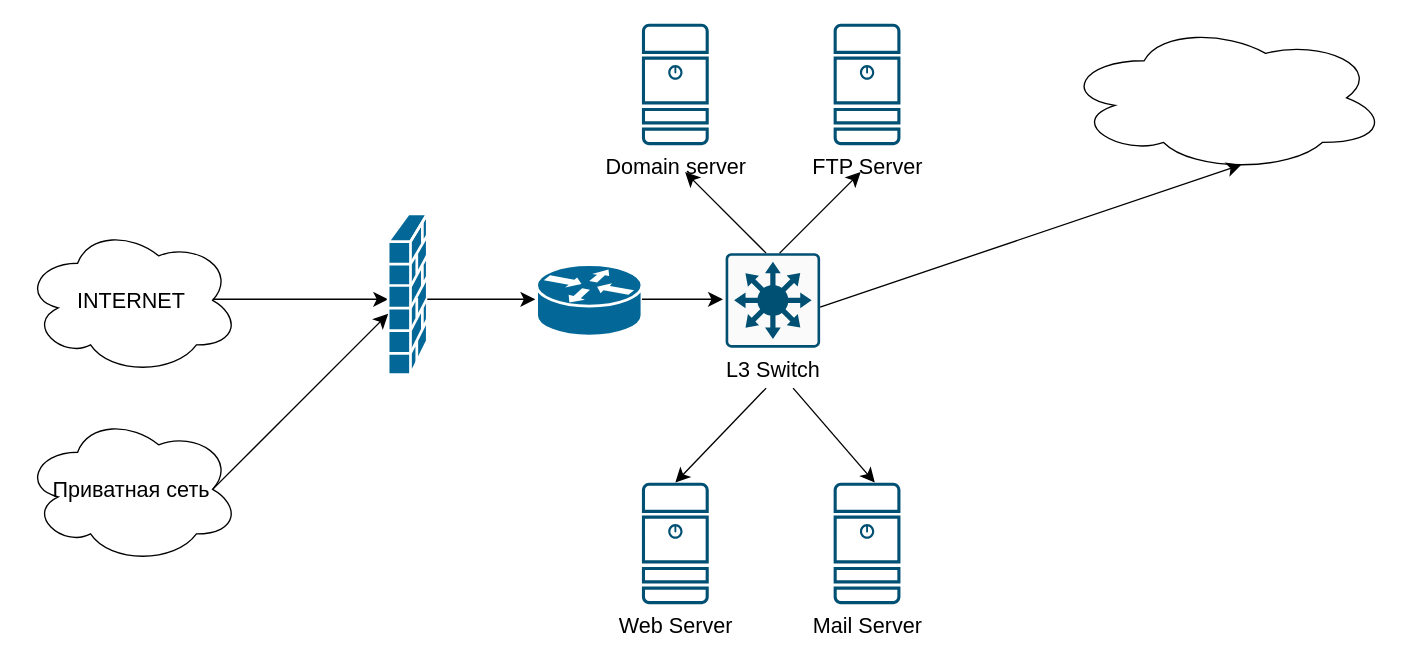
This 1411x663 diagram has some shape labels left out. Here are the shapes that lost their labels. From the top down, the centre of each, then its label:
the point at 1224,97: Клиентские машины
the point at 407,293: Firewall
the point at 589,300: Router
